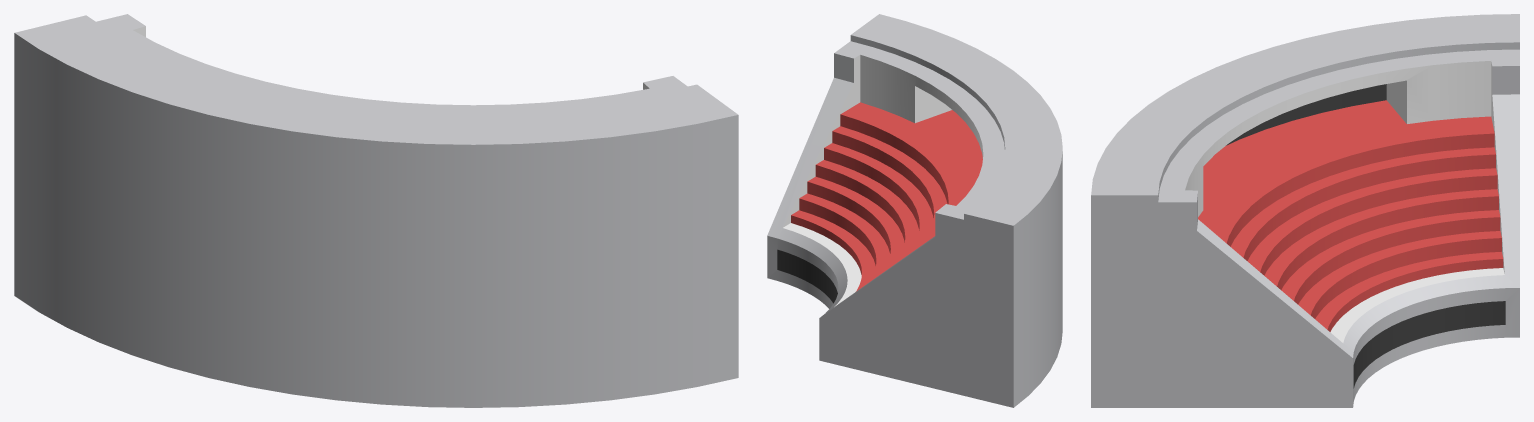
Rendered from grandStandRound.obj.
3 views of the same model, side by side, from view 1: azimuth 30°, elevation 25°; view 2: azimuth 150°, elevation 25°; view 3: azimuth 270°, elevation 25° (orthographic). The views are drawn at different scales.
Visible parts, largest first — view 1: grandStandRound; view 2: grandStandRound; view 3: grandStandRound.
Part boxes in pixels (x1,y1,x2,y2): grandStandRound: (14, 14, 738, 407); grandStandRound: (767, 14, 1062, 407); grandStandRound: (1091, 14, 1519, 407).
Bounding box in the file's own units: 1.64 × 0.8963 × 1.64.
